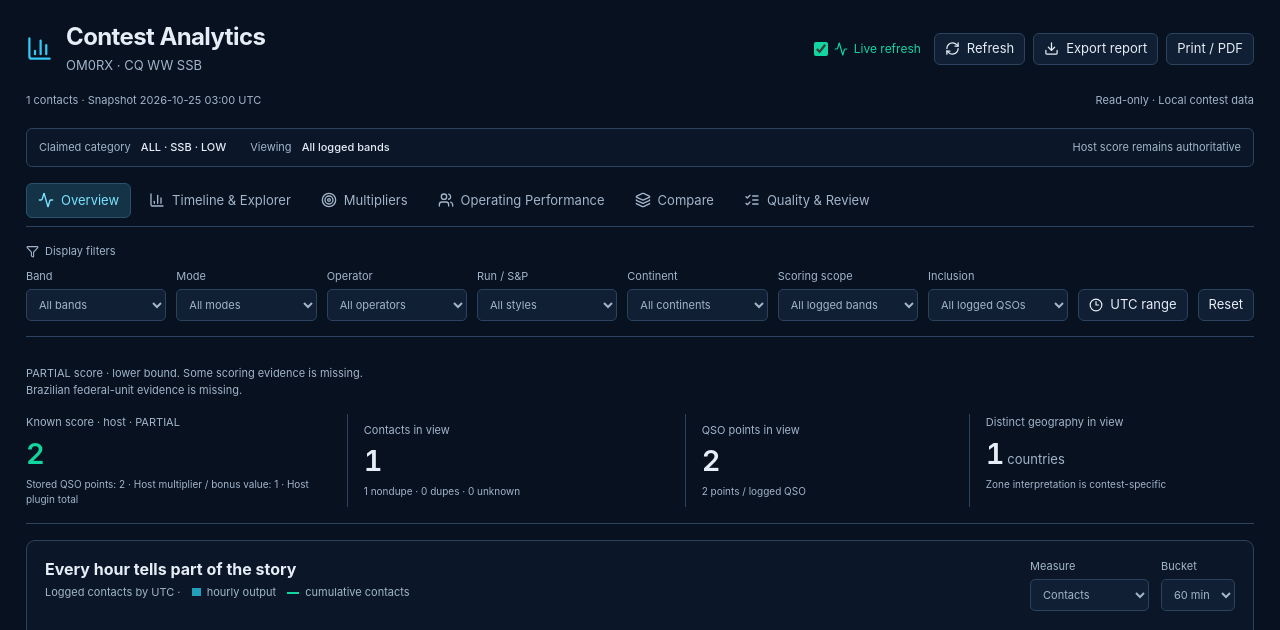
Test case: Contest Analytics interaction › labels an incomplete CQWS score as a lower bound and shows the host limitation
Expected: the text "PARTIAL score · lower bound" is shown, [26, 366, 363, 380]
Expected: the text "Brazilian federal-unit evidence is missing." is shown, [26, 382, 242, 396]
Click the button "Multipliers". click: point(364, 200)
box: [309, 182, 420, 218]
(page scrolled)
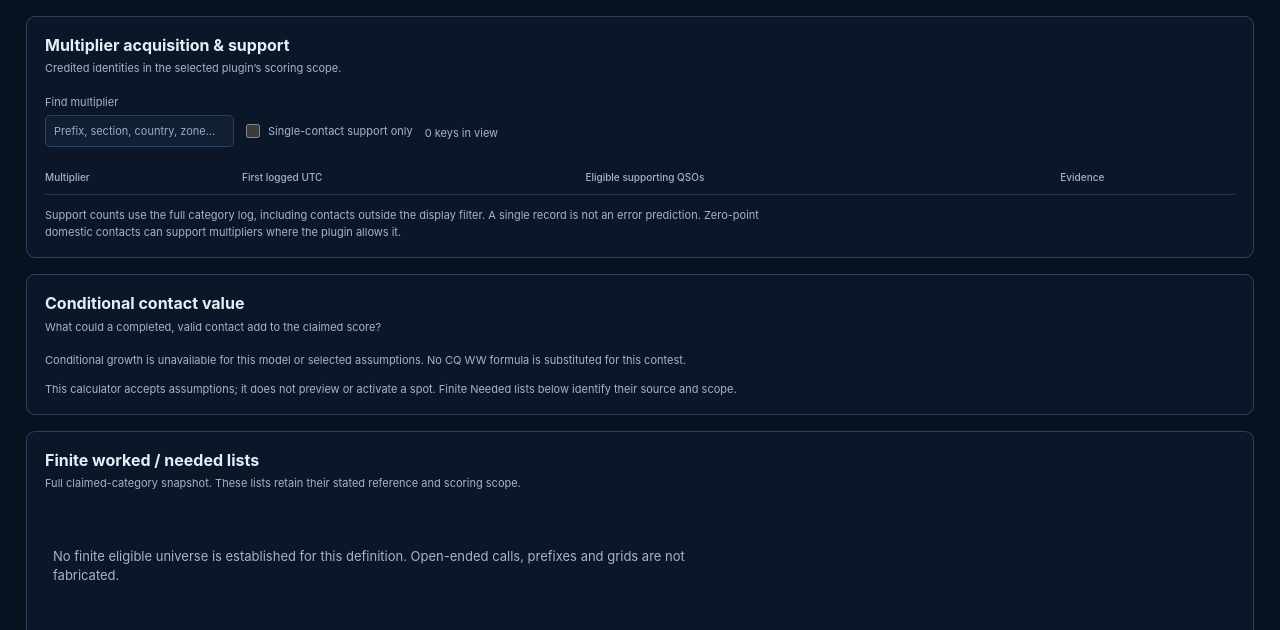
Expected: the text "Conditional growth is unavailable" is shown, [45, 353, 686, 367]
